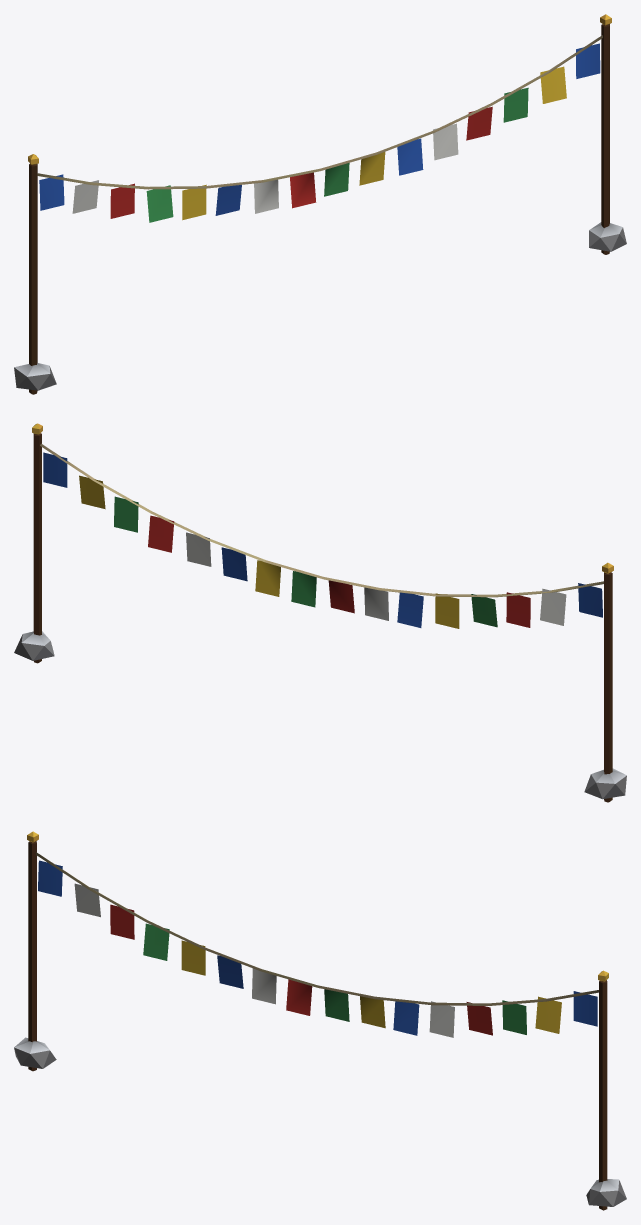
The model's file is Alpine_FlagLine.glb.
The picture shows the model from 3 angles, top to bottom: view 1: azimuth 30°, elevation 25°; view 2: azimuth 150°, elevation 25°; view 3: azimuth 330°, elevation 25°; orthographic projection.
Parts seen in each view (by area): view 1: Alpine_FlagLine; view 2: Alpine_FlagLine; view 3: Alpine_FlagLine.
Part boxes in pixels (x1,y1,x2,y2): Alpine_FlagLine: (14,14,626,394); Alpine_FlagLine: (14,423,626,802); Alpine_FlagLine: (14,831,626,1210).
Size of the model in its own units: 10.6 by 4.02 by 0.6.
